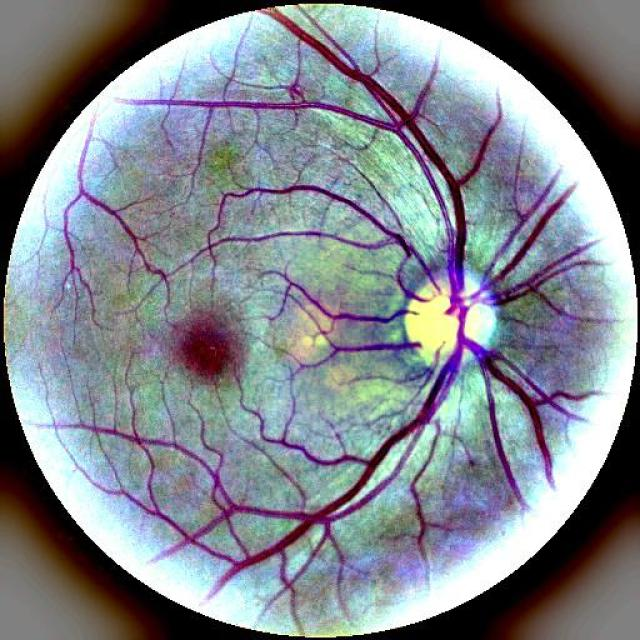Macula: (180, 324, 231, 379)
Nerves: (83, 21, 590, 580)
Optic Disk: (404, 288, 459, 362), (464, 300, 494, 346)
